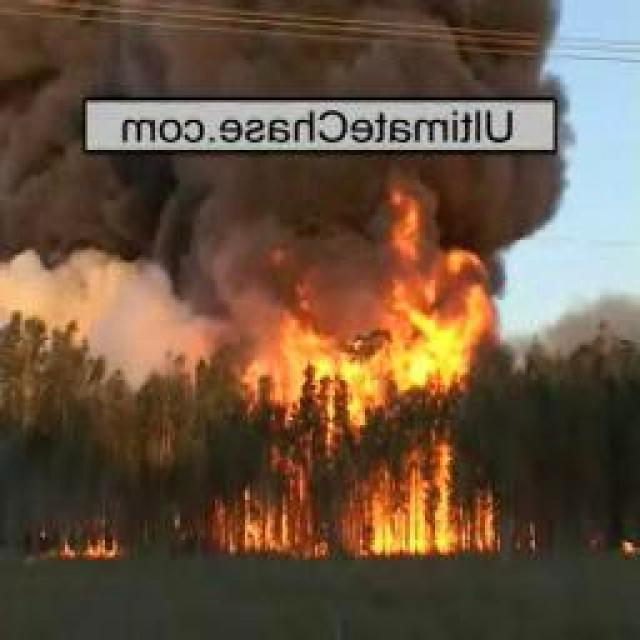Fire: (208, 212, 492, 553), (44, 529, 121, 562)
